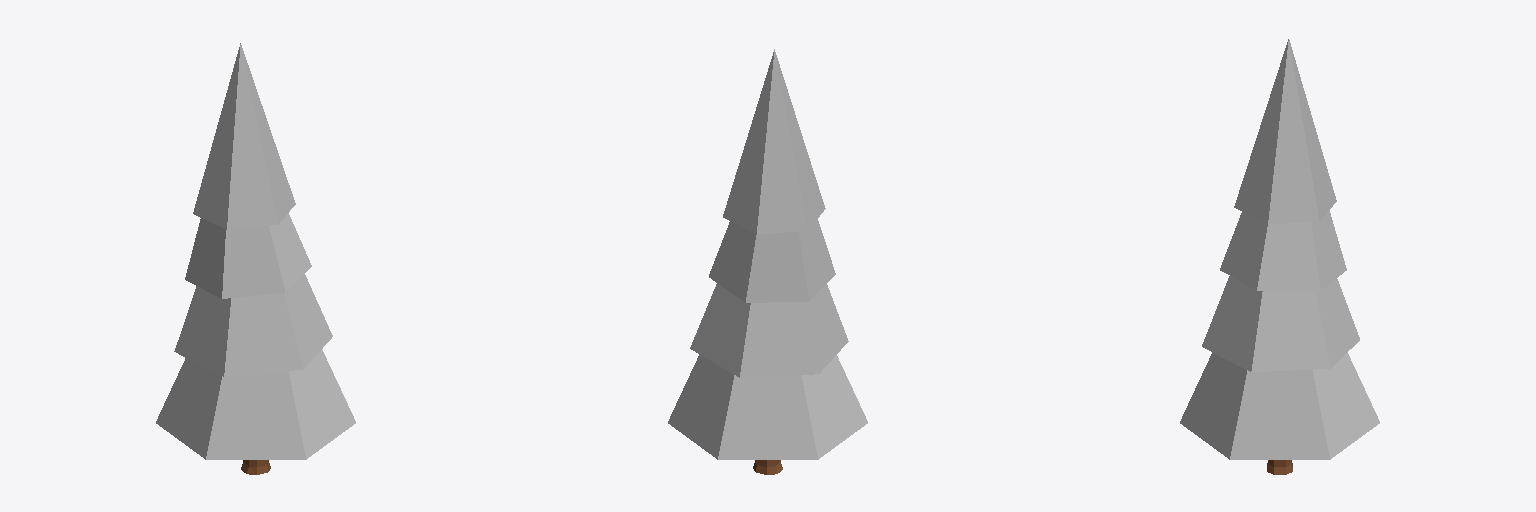
File: Tree_Pine_3.obj
3 views of the same model, side by side, from view 1: azimuth 30°, elevation 25°; view 2: azimuth 150°, elevation 25°; view 3: azimuth 270°, elevation 25° (orthographic).
Parts seen in each view (by area): view 1: Cone.085_Cone.148, Cone.084_Cone.147, Cone.086_Cone.149, Cone.083_Cone.146; view 2: Cone.085_Cone.148, Cone.084_Cone.147, Cone.086_Cone.149, Cone.083_Cone.146; view 3: Cone.085_Cone.148, Cone.084_Cone.147, Cone.086_Cone.149, Cone.083_Cone.146.
Part boxes in pixels (left/top/right/bottom): Cone.085_Cone.148: left=156, top=350, right=355, bottom=459; Cone.084_Cone.147: left=174, top=274, right=332, bottom=376; Cone.086_Cone.149: left=193, top=43, right=295, bottom=229; Cone.083_Cone.146: left=185, top=213, right=311, bottom=298; Cone.085_Cone.148: left=668, top=354, right=867, bottom=459; Cone.084_Cone.147: left=690, top=283, right=848, bottom=377; Cone.086_Cone.149: left=723, top=49, right=825, bottom=234; Cone.083_Cone.146: left=709, top=219, right=835, bottom=302; Cone.085_Cone.148: left=1180, top=352, right=1379, bottom=459; Cone.084_Cone.147: left=1202, top=276, right=1359, bottom=371; Cone.086_Cone.149: left=1234, top=39, right=1336, bottom=224; Cone.083_Cone.146: left=1220, top=210, right=1346, bottom=290.
Size of the model in its own units: 3.33 by 8.99 by 3.84.